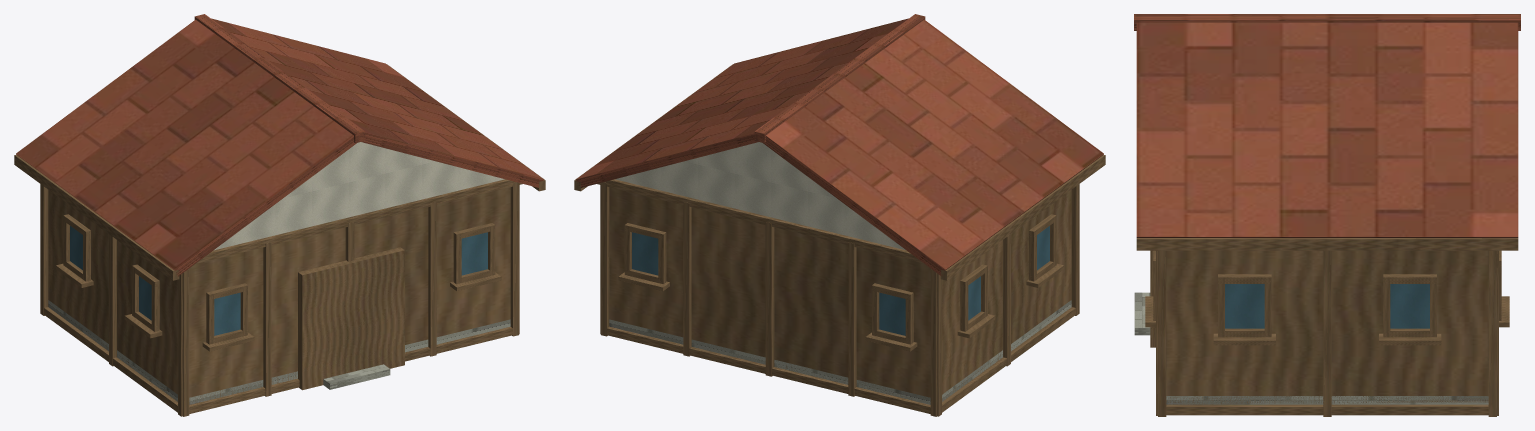
3 renders of one model, left to right at view 1: azimuth 30°, elevation 25°; view 2: azimuth 150°, elevation 25°; view 3: azimuth 270°, elevation 25°, orthographic. The views are drawn at different scales.
Parts seen in each view (by area): view 1: house-wood, house-roof, house-plaster, house-stone, house-glass; view 2: house-wood, house-roof, house-plaster, house-stone, house-glass; view 3: house-roof, house-wood, house-glass, house-stone.
Boxes of the visible parts, x1,y1,x2,y2 form: house-wood: [14, 64, 545, 416]; house-roof: [16, 14, 543, 276]; house-plaster: [214, 142, 504, 250]; house-stone: [48, 300, 510, 404]; house-glass: [70, 226, 487, 335]; house-wood: [574, 64, 1105, 416]; house-roof: [576, 14, 1103, 276]; house-plaster: [615, 142, 905, 250]; house-stone: [609, 300, 1071, 404]; house-glass: [632, 226, 1049, 335]; house-roof: [1134, 14, 1520, 237]; house-wood: [1136, 238, 1518, 416]; house-glass: [1225, 284, 1429, 328]; house-stone: [1134, 292, 1488, 404].
Bounding box in the file's own units: 10.18 × 6.52 × 7.6.
5 materials, 5 textured.
